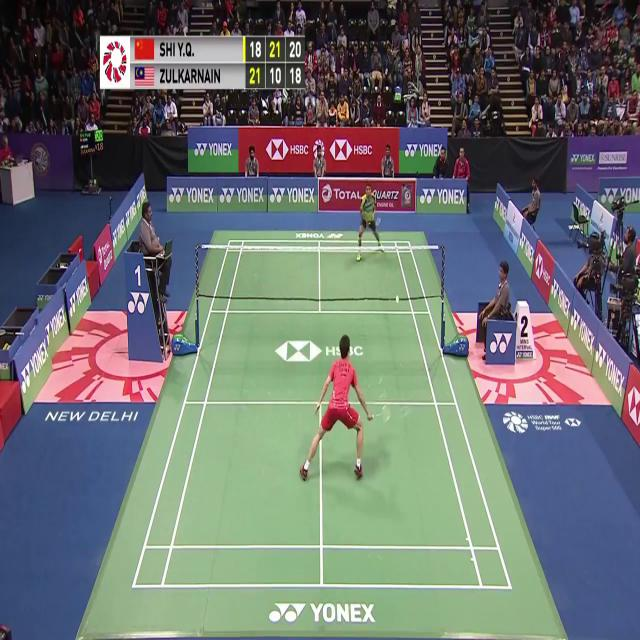Shuttlecock: (393, 298, 400, 310)
